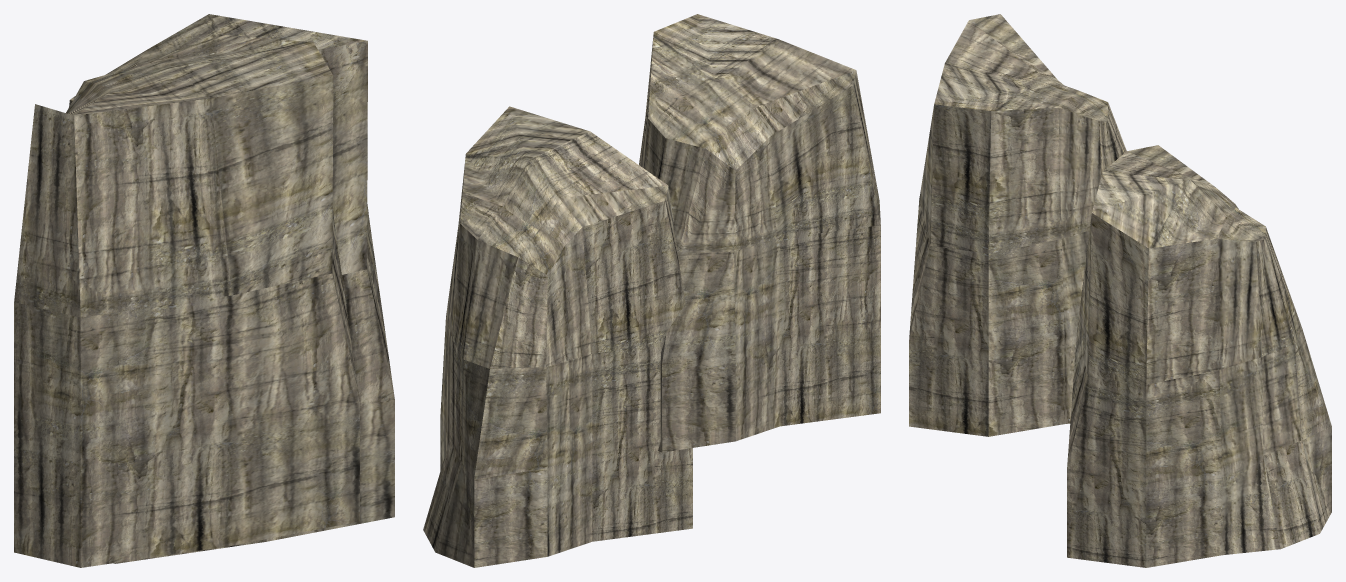
Rendered from SM_Chateaux_01_06.fbx.
3 views of the same model, side by side, from view 1: azimuth 30°, elevation 25°; view 2: azimuth 150°, elevation 25°; view 3: azimuth 270°, elevation 25° (orthographic). The views are drawn at different scales.
Visible parts, largest first — view 1: SM_Chateaux_01_06; view 2: SM_Chateaux_01_06; view 3: SM_Chateaux_01_06.
Part boxes in pixels (left/top/right/bottom): SM_Chateaux_01_06: left=14, top=14, right=394, bottom=567; SM_Chateaux_01_06: left=423, top=14, right=880, bottom=567; SM_Chateaux_01_06: left=909, top=14, right=1331, bottom=567.
Bounding box in the file's own units: 3507 × 3947 × 3791.
